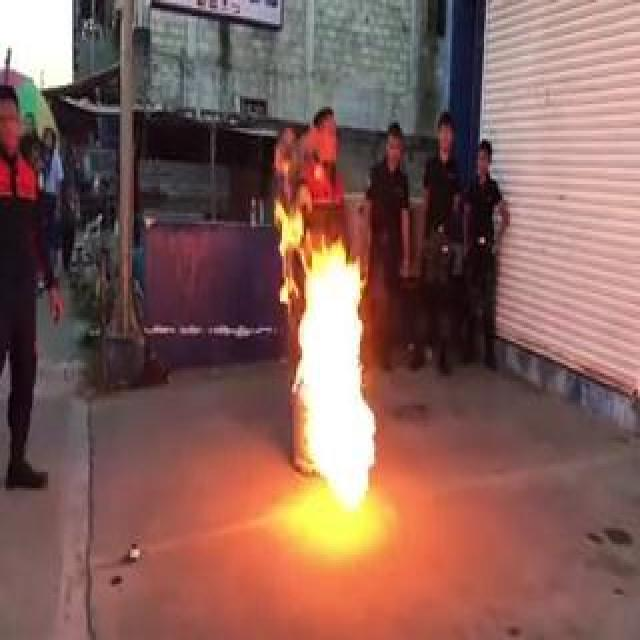Fire: (288, 173, 380, 512)
